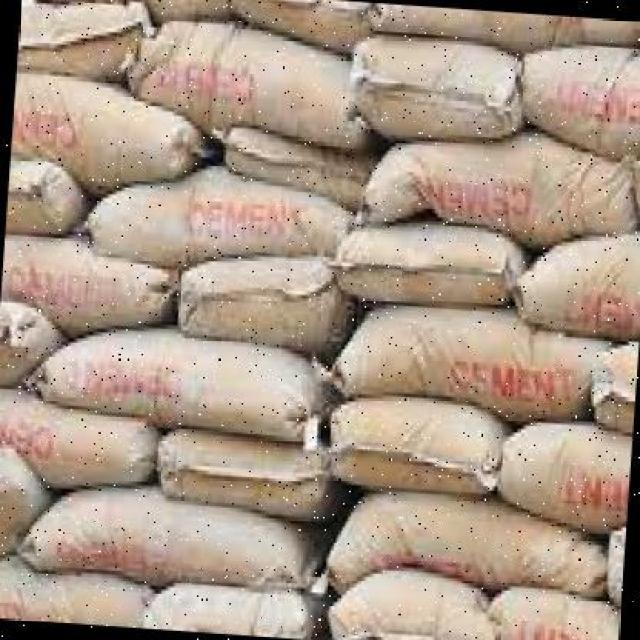gunny_bag: (361, 134, 640, 247), (23, 338, 324, 442), (327, 489, 602, 597), (134, 21, 355, 155), (334, 311, 609, 416), (17, 492, 309, 589), (87, 166, 350, 267), (10, 75, 214, 184), (350, 36, 520, 140), (0, 236, 175, 336), (328, 411, 506, 498), (333, 223, 515, 307), (0, 394, 162, 488), (499, 420, 633, 532), (179, 261, 336, 354), (326, 407, 499, 490), (158, 433, 329, 513), (223, 126, 377, 212), (327, 562, 495, 640), (524, 48, 640, 157), (516, 238, 640, 339), (368, 3, 640, 46), (0, 556, 154, 629), (17, 0, 154, 79), (147, 586, 317, 640), (231, 0, 380, 54), (489, 590, 621, 640), (5, 154, 83, 235), (0, 443, 50, 555), (0, 304, 60, 391), (23, 0, 236, 18), (594, 349, 639, 432), (604, 529, 626, 603)
